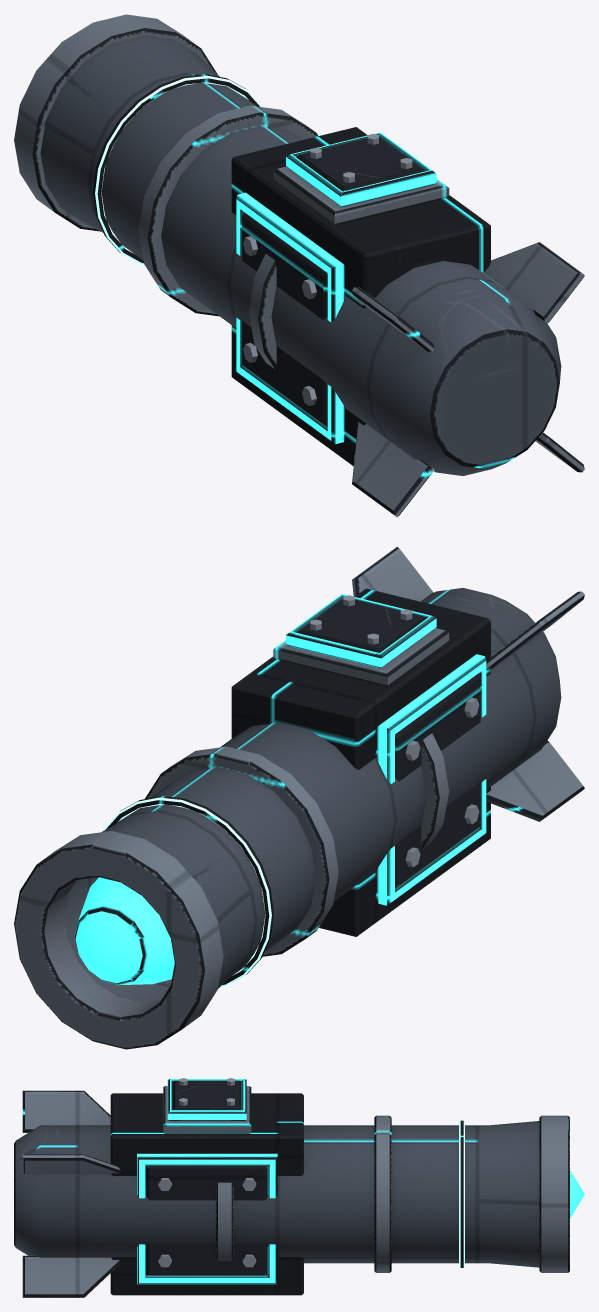
File: torpedo_t3.fbx
3 renders of one model, top to bottom at view 1: azimuth 30°, elevation 25°; view 2: azimuth 150°, elevation 25°; view 3: azimuth 270°, elevation 25°, orthographic. The views are drawn at different scales.
Parts seen in each view (by area): view 1: torpedo_t3, torpedo_t3_neon; view 2: torpedo_t3, torpedo_t3_neon; view 3: torpedo_t3, torpedo_t3_neon.
Part boxes in pixels (x1,y1,x2,y2): torpedo_t3: (14,14,584,517); torpedo_t3_neon: (95,75,262,264); torpedo_t3: (14,546,584,1049); torpedo_t3_neon: (104,797,271,986); torpedo_t3: (14,1078,584,1297); torpedo_t3_neon: (459,1121,464,1267).
Bounding box in the file's own units: 1.8 × 2.31 × 6.5.
